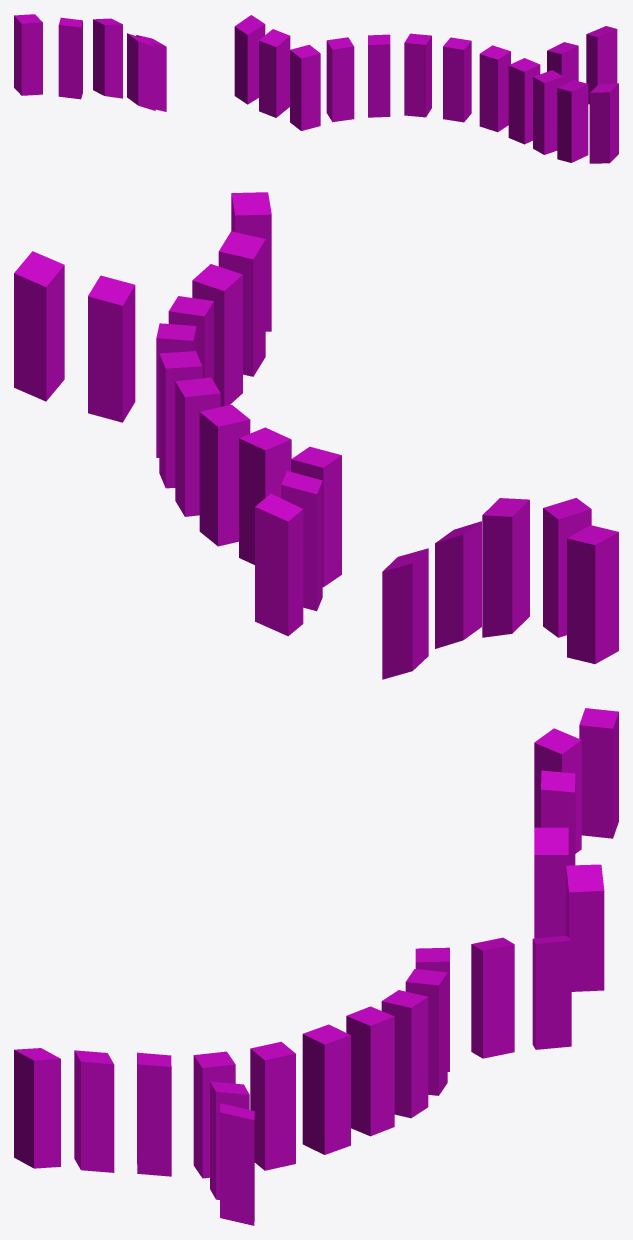
The model's file is M09_Z01_TeethBlock02.glb.
3 renders of one model, top to bottom at view 1: azimuth 30°, elevation 25°; view 2: azimuth 150°, elevation 25°; view 3: azimuth 270°, elevation 25°, orthographic. The views are drawn at different scales.
Visible parts, largest first — view 1: M09_Z01_TEETHBLOCK02; view 2: M09_Z01_TEETHBLOCK02; view 3: M09_Z01_TEETHBLOCK02.
Boxes of the visible parts, x1,y1,x2,y2 form: M09_Z01_TEETHBLOCK02: (14,14,618,163); M09_Z01_TEETHBLOCK02: (14,192,618,679); M09_Z01_TEETHBLOCK02: (14,708,618,1225).
Bounding box in the file's own units: 54.85 × 13.38 × 39.7.
